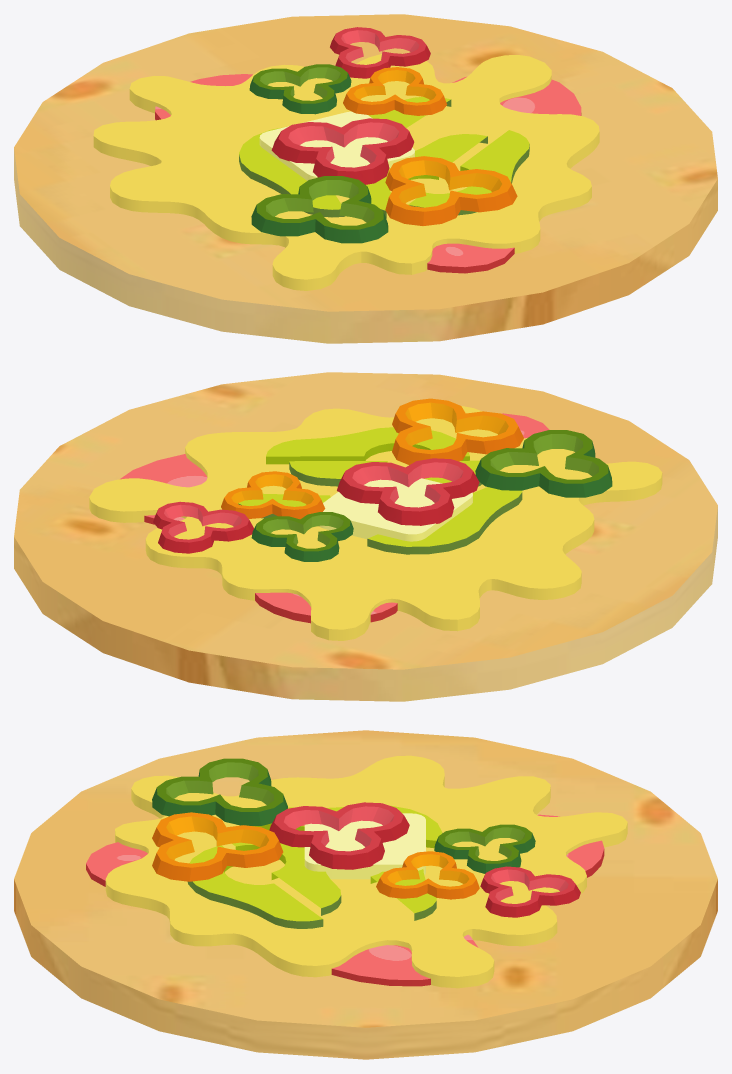
Rendered from taco_Carne_Aguacate_Pimiento_Salsa.glb.
3 views of the same model, one above another, from view 1: azimuth 30°, elevation 25°; view 2: azimuth 150°, elevation 25°; view 3: azimuth 270°, elevation 25° (orthographic).
Visible parts, largest first — view 1: tortilla.002, Melted_Butter_Butter_0, Pepper_Slice_Pepper_0, Pepper_Slice_Pepper_0.001, Avocado_Slice_Avocado_0, Ham_Slice_Ham_0.002; view 2: tortilla.002, Melted_Butter_Butter_0, Pepper_Slice_Pepper_0, Avocado_Slice_Avocado_0, Pepper_Slice_Pepper_0.001, Ham_Slice_Ham_0.002; view 3: tortilla.002, Melted_Butter_Butter_0, Pepper_Slice_Pepper_0, Pepper_Slice_Pepper_0.001, Avocado_Slice_Avocado_0, Ham_Slice_Ham_0.002.
Part boxes in pixels (x1,y1,x2,y2): tortilla.002: [14, 14, 717, 343]; Melted_Butter_Butter_0: [93, 54, 599, 290]; Pepper_Slice_Pepper_0: [251, 118, 517, 243]; Pepper_Slice_Pepper_0.001: [249, 27, 447, 115]; Avocado_Slice_Avocado_0: [239, 97, 529, 218]; Ham_Slice_Ham_0.002: [155, 74, 581, 273]; tortilla.002: [14, 372, 717, 701]; Melted_Butter_Butter_0: [89, 406, 662, 640]; Pepper_Slice_Pepper_0: [337, 398, 612, 525]; Avocado_Slice_Avocado_0: [238, 427, 522, 554]; Pepper_Slice_Pepper_0.001: [153, 471, 353, 561]; Ham_Slice_Ham_0.002: [120, 413, 549, 623]; tortilla.002: [14, 730, 717, 1059]; Melted_Butter_Butter_0: [105, 755, 627, 988]; Pepper_Slice_Pepper_0: [152, 758, 409, 881]; Pepper_Slice_Pepper_0.001: [376, 824, 580, 917]; Avocado_Slice_Avocado_0: [187, 805, 442, 928]; Ham_Slice_Ham_0.002: [86, 814, 604, 986].
Size of the model in its own units: 0.2118 by 0.023 by 0.2118.
5 materials, 5 textured.
